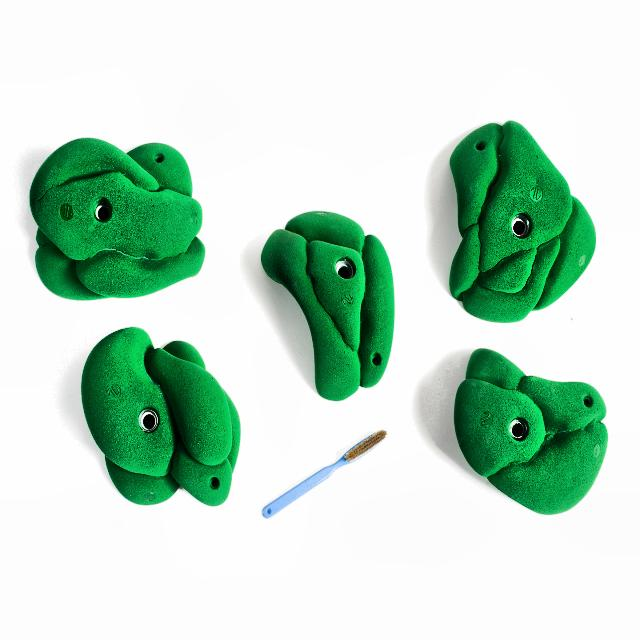Hold: (444, 119, 594, 324), (75, 322, 238, 510), (253, 212, 411, 396), (29, 139, 210, 297), (451, 350, 608, 515)
